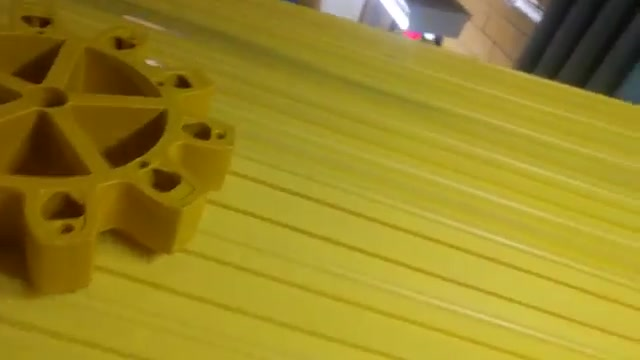gear: (1, 5, 244, 292)
